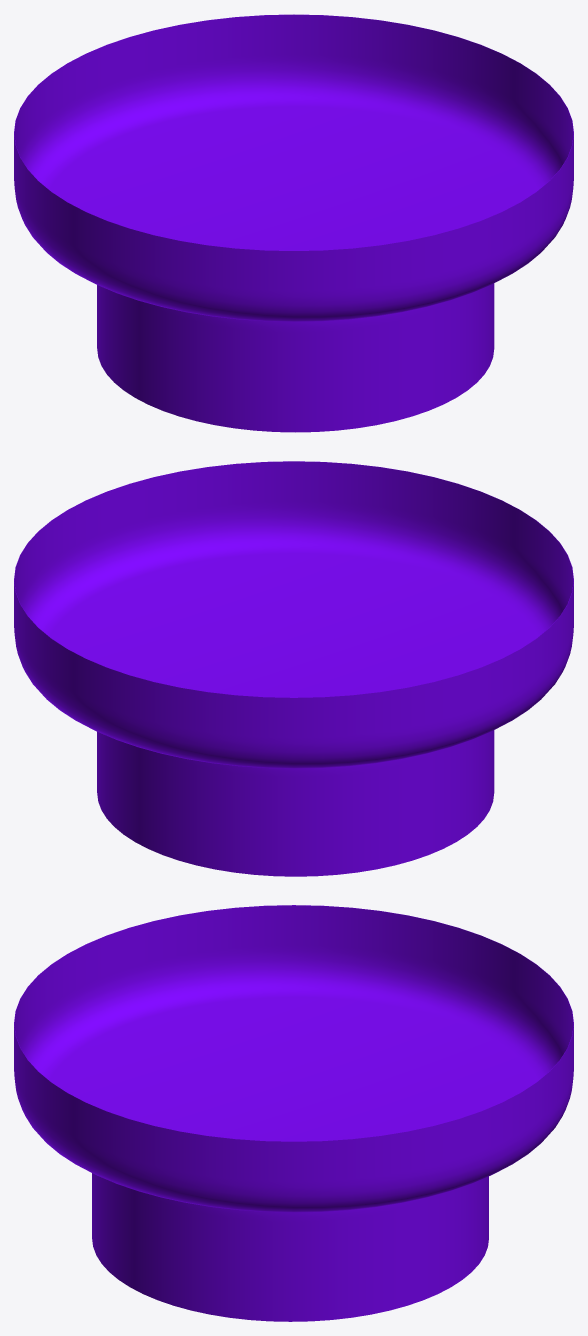
Rendered from MesitaBlackTreadConverter.glb.
The picture shows the model from 3 angles, top to bottom: view 1: azimuth 30°, elevation 25°; view 2: azimuth 150°, elevation 25°; view 3: azimuth 270°, elevation 25°; orthographic projection.
Parts seen in each view (by area): view 1: Mesita; view 2: Mesita; view 3: Mesita.
Part boxes in pixels (x1,y1,x2,y2): Mesita: [14, 14, 573, 432]; Mesita: [14, 461, 573, 876]; Mesita: [14, 905, 573, 1321].
Size of the model in its own units: 21.01 by 8.88 by 21.01.
